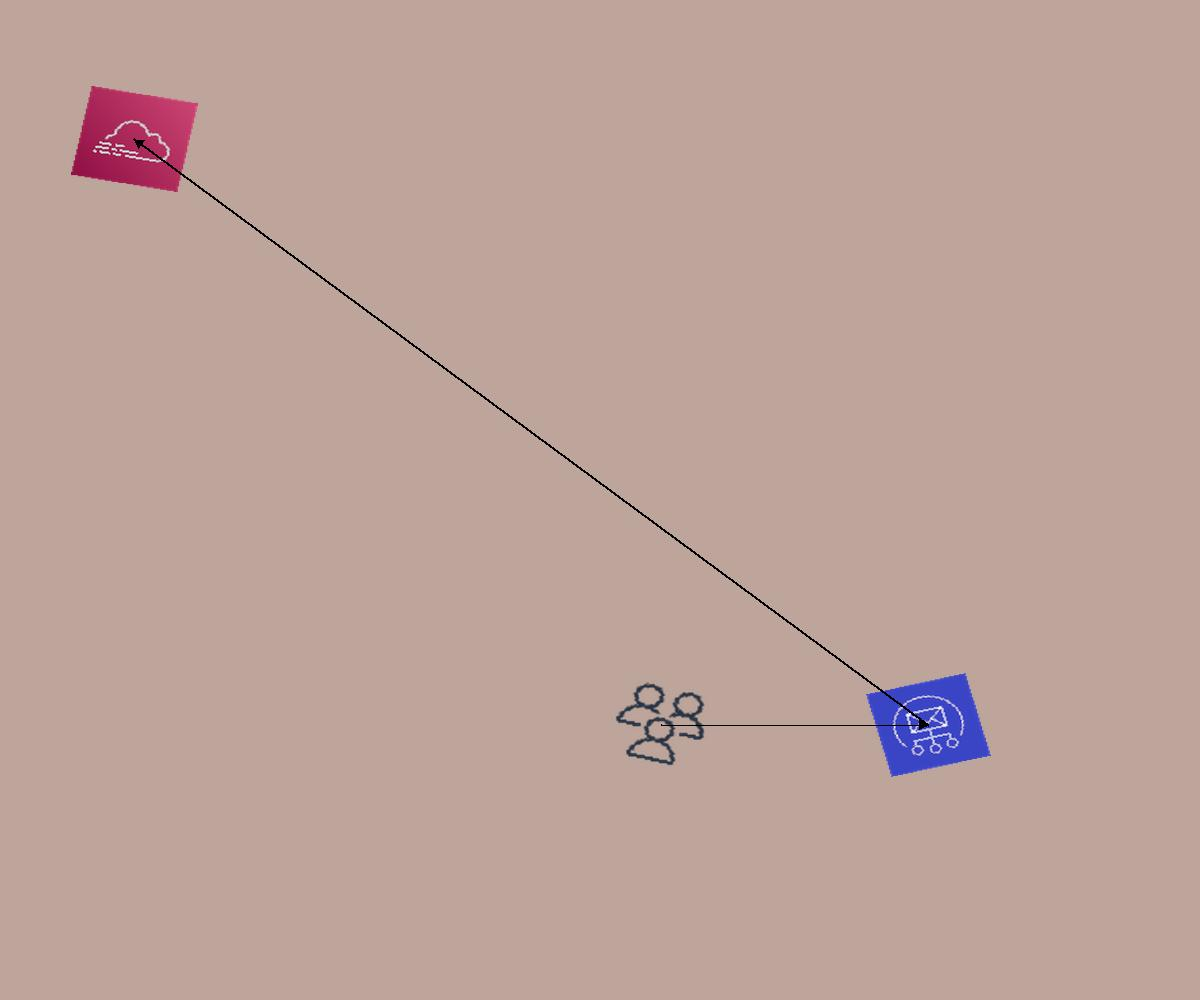AWS-CloudTrail: (71, 86, 198, 192)
AWS-Res_Users: (600, 674, 722, 775)
AWS-Simple-Email-Service: (866, 673, 991, 777)
